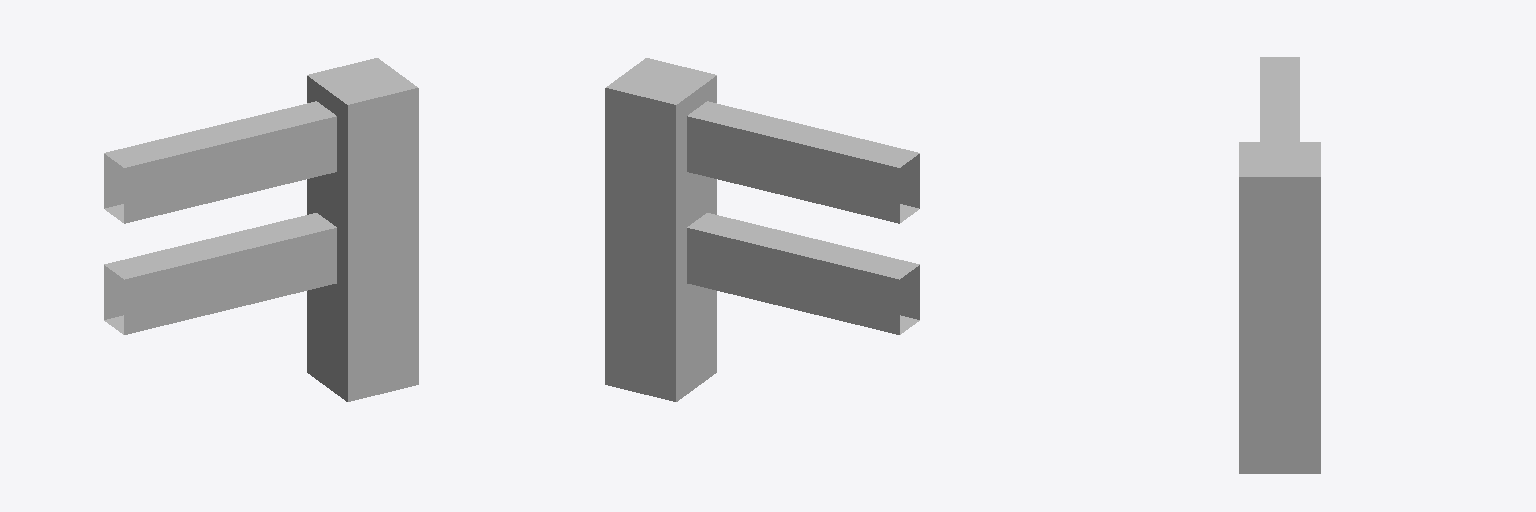
The model's file is fence.obj.
3 views of the same model, side by side, from view 1: azimuth 30°, elevation 25°; view 2: azimuth 150°, elevation 25°; view 3: azimuth 270°, elevation 25° (orthographic).
Visible parts, largest first — view 1: Fence; view 2: Fence; view 3: Fence.
Boxes of the visible parts, x1=… form: Fence: x1=104, y1=58, x2=418, y2=401; Fence: x1=605, y1=58, x2=919, y2=401; Fence: x1=1239, y1=57, x2=1320, y2=473.
Bounding box in the file's own units: 1 × 1 × 0.25.